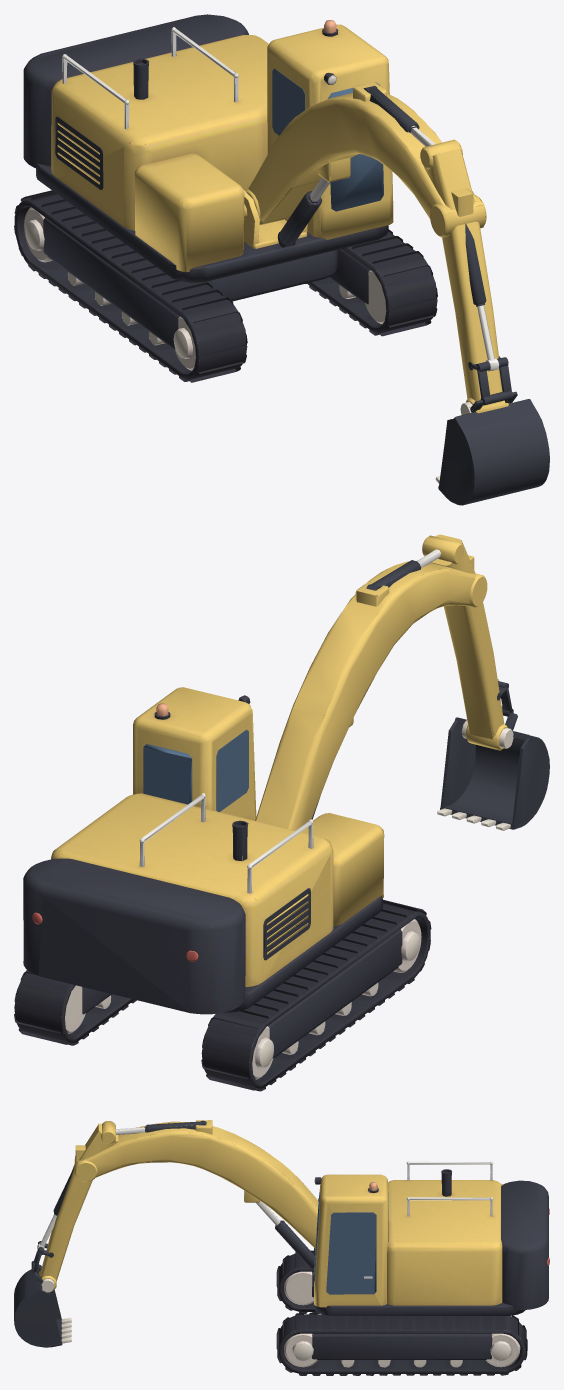
Rendered from excavadora.glb.
3 views of the same model, one above another, from view 1: azimuth 30°, elevation 25°; view 2: azimuth 150°, elevation 25°; view 3: azimuth 270°, elevation 25° (orthographic). The views are drawn at different scales.
Parts seen in each view (by area): view 1: excavator_arm; view 2: excavator_arm; view 3: excavator_arm.
Boxes of the visible parts, <box> form: excavator_arm: <box>14,14,549,505</box>; excavator_arm: <box>14,534,549,1091</box>; excavator_arm: <box>14,1120,549,1375</box>.
Size of the model in its own units: 2.93 by 3.7 by 8.4.
Materials: 11 (2 with a texture image).
